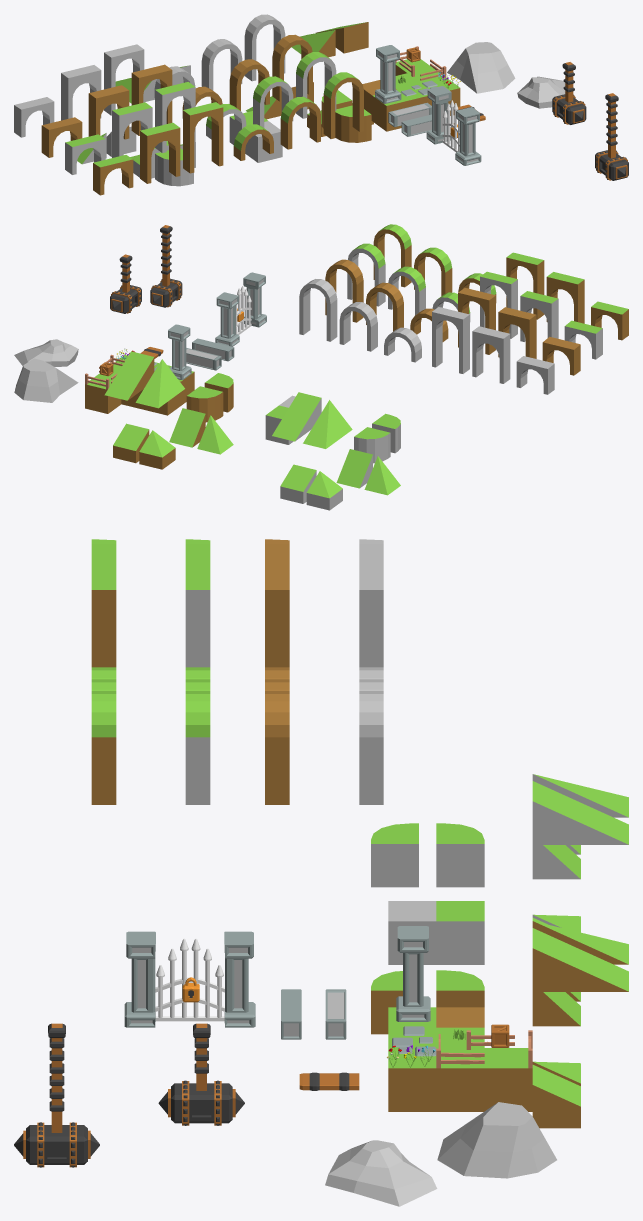
Rendered from LevelStuff.fbx.
3 views of the same model, one above another, from view 1: azimuth 30°, elevation 25°; view 2: azimuth 150°, elevation 25°; view 3: azimuth 270°, elevation 25° (orthographic). The views are drawn at different scales.
Parts seen in each view (by area): view 1: Cylinder.038, Circle.023, Circle.022, Circle.020, Cylinder.042, Circle.010, Circle.016, Circle.004, Circle.019, Circle.011, Cylinder.040, Circle.017 (+39 smaller); view 2: Cylinder.038, Circle.005, Cube.113, Cube.159, Circle.004, Circle.002, Cylinder.042, Cube.133, Cube.162, Cylinder.041, Circle.010, Circle.022 (+38 smaller); view 3: Cylinder.038, Cylinder.041, Cylinder.042, Cube.113, Cube.159, Cylinder.040, Cube.163, Cube.168, Cube.170, Circle.014, Circle.020, Cube.141 (+24 smaller).
Part boxes in pixels (x1=…): Cylinder.038: x1=447, y1=42, x2=515, y2=93; Circle.023: x1=183, y1=102, x2=223, y2=173; Circle.022: x1=140, y1=122, x2=180, y2=183; Circle.020: x1=323, y1=72, x2=363, y2=138; Cylinder.042: x1=595, y1=93, x2=628, y2=180; Circle.010: x1=88, y1=85, x2=129, y2=139; Circle.016: x1=112, y1=102, x2=152, y2=157; Circle.004: x1=61, y1=65, x2=101, y2=120; Circle.019: x1=280, y1=96, x2=320, y2=149; Circle.011: x1=131, y1=64, x2=172, y2=135; Cylinder.040: x1=552, y1=62, x2=586, y2=124; Circle.017: x1=155, y1=82, x2=195, y2=152; Cylinder.038: x1=14, y1=358, x2=78, y2=402; Circle.005: x1=432, y1=307, x2=469, y2=373; Cube.113: x1=104, y1=351, x2=154, y2=400; Cube.159: x1=272, y1=392, x2=321, y2=441; Circle.004: x1=472, y1=326, x2=510, y2=383; Circle.002: x1=299, y1=279, x2=337, y2=341; Cylinder.042: x1=150, y1=225, x2=182, y2=307; Cube.133: x1=135, y1=359, x2=184, y2=408; Cube.162: x1=303, y1=400, x2=352, y2=448; Cylinder.041: x1=14, y1=339, x2=78, y2=366; Circle.010: x1=498, y1=307, x2=536, y2=358; Circle.022: x1=546, y1=272, x2=584, y2=323; Cylinder.038: x1=437, y1=1102, x2=556, y2=1178; Cylinder.041: x1=325, y1=1140, x2=437, y2=1206; Cylinder.042: x1=14, y1=1023, x2=99, y2=1167; Cube.113: x1=532, y1=928, x2=628, y2=991; Cube.159: x1=532, y1=781, x2=628, y2=844; Cylinder.040: x1=158, y1=1023, x2=244, y2=1125; Cube.163: x1=436, y1=901, x2=484, y2=964; Cube.168: x1=436, y1=823, x2=484, y2=887; Cube.170: x1=371, y1=823, x2=418, y2=887; Circle.014: x1=185, y1=691, x2=210, y2=804; Circle.020: x1=91, y1=691, x2=116, y2=804; Cube.141: x1=388, y1=1048, x2=436, y2=1111.
Bounding box in the file's own units: 4570 × 1404 × 2554.
